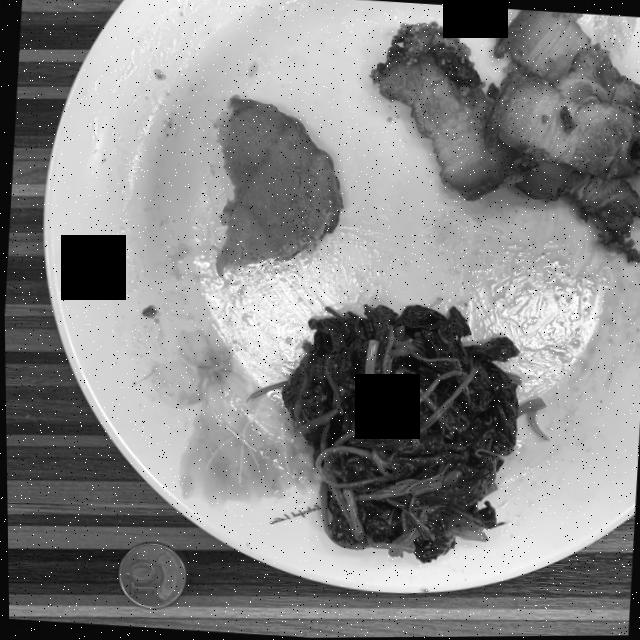Spam: (212, 96, 341, 275)
coin: (117, 543, 184, 609)
red grilled pork: (371, 10, 640, 263)
sweet potato leaves: (249, 305, 546, 563)
